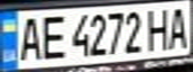2: (124, 7, 148, 54), (87, 9, 109, 57)
4: (66, 10, 90, 58)
7: (106, 8, 127, 56)
A: (12, 12, 45, 62), (163, 3, 193, 51)
E: (36, 11, 69, 61)
H: (145, 4, 175, 52)
